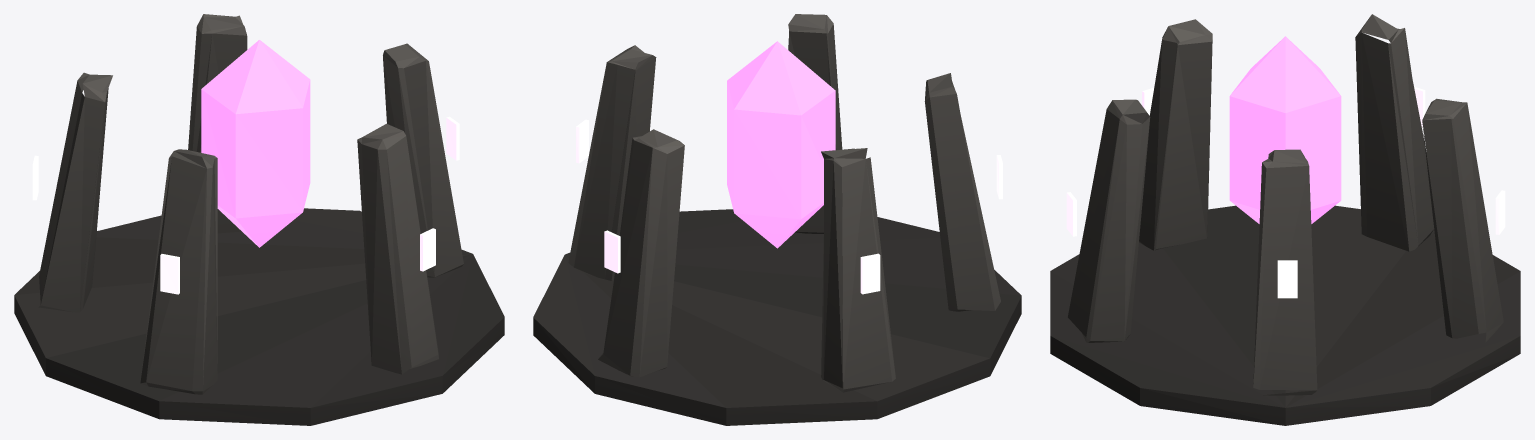
File: rift_gate.glb
3 views of the same model, side by side, from view 1: azimuth 30°, elevation 25°; view 2: azimuth 150°, elevation 25°; view 3: azimuth 270°, elevation 25° (orthographic).
Parts seen in each view (by area): view 1: rift_gate; view 2: rift_gate; view 3: rift_gate.
Boxes of the visible parts, x1=… form: rift_gate: x1=14, y1=14, x2=504, y2=425; rift_gate: x1=533, y1=14, x2=1021, y2=425; rift_gate: x1=1050, y1=14, x2=1520, y2=425.
Size of the model in its own units: 1.24 by 0.789 by 1.18.
